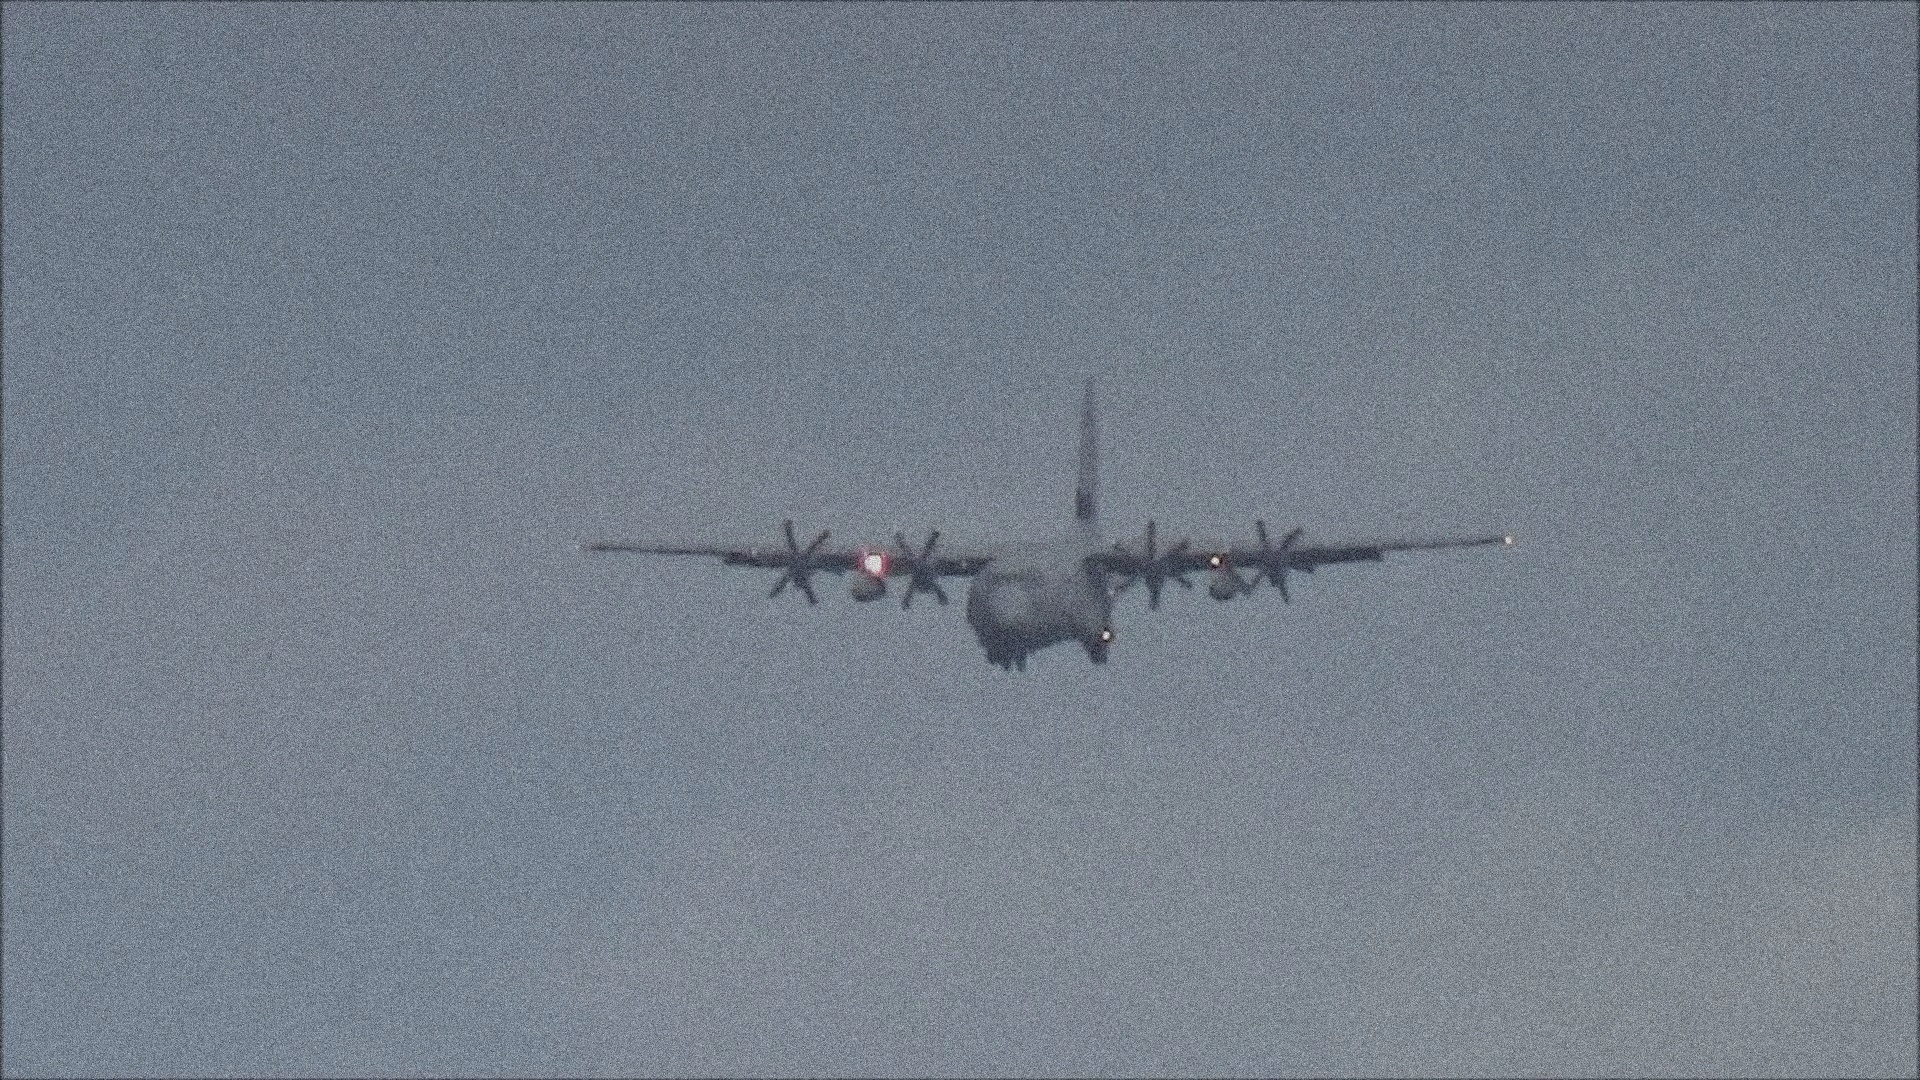Airplane: (574, 385, 1531, 673)
